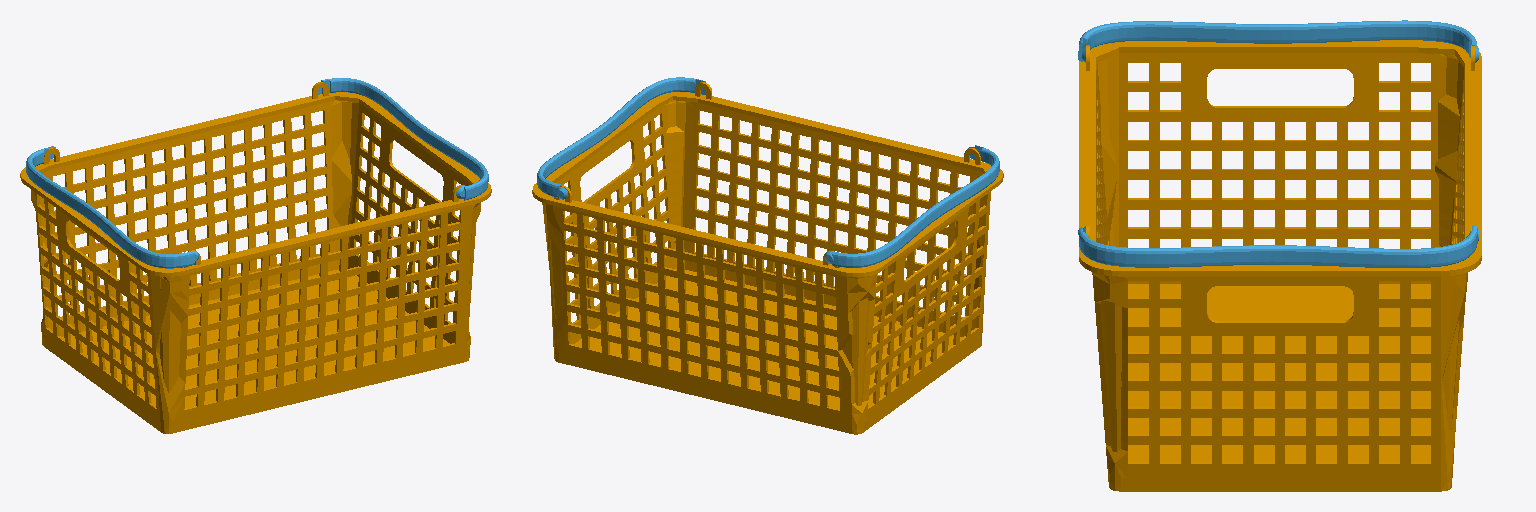
URDF robot description (seria_basket):
<?xml version="1.0"?>
<robot name="seria_basket">

  <link name="seria_basket_body">
    <visual>
      <origin xyz="0.0 0.0 0.0"/>
      <geometry>
        <mesh filename="../../meshes/objects/seria_basket_body.obj" scale="0.001 0.001 0.001"/>
      </geometry>
    </visual>
    <collision concave="yes">
      <origin xyz="0.0 0.0 0.0"/>
      <geometry>
        <mesh filename="../../meshes/objects/seria_basket_body_collision.obj" scale="0.001 0.001 0.001"/>
      </geometry>
    </collision>
  </link>
  <link name="seria_basket_handle">
    <visual>
      <origin xyz="0.0 0.0 0.0"/>
      <geometry>
        <mesh filename="../../meshes/objects/seria_basket_handle.obj" scale="0.001 0.001 0.001"/>
      </geometry>
    </visual>
    <!-- <collision>
      <origin xyz="0.0 0.0 0.0"/>
      <geometry>
        <mesh filename="../../meshes/objects/seria_basket_handle.obj" scale="0.001 0.001 0.001"/>
      </geometry>
    </collision> -->
  </link>
  <joint name="j1"  type="fixed">
    <parent link="seria_basket_body"/>
    <child link="seria_basket_handle"/>
  </joint>
</robot>

--- Render facts (derived) ---
3 views of the same robot in one strip: view 1: azimuth 30°, elevation 25°; view 2: azimuth 150°, elevation 25°; view 3: azimuth 270°, elevation 25° (orthographic).
Model seria_basket with 2 links and 1 joints (1 fixed), rooted at seria_basket_body, posed all joints at 0.
Visible links, largest first — view 1: seria_basket_body, seria_basket_handle; view 2: seria_basket_body, seria_basket_handle; view 3: seria_basket_body, seria_basket_handle.
Link boxes in pixels (bbox=[...]): seria_basket_body: bbox=[20, 82, 491, 433]; seria_basket_handle: bbox=[26, 78, 488, 268]; seria_basket_body: bbox=[532, 82, 1003, 434]; seria_basket_handle: bbox=[537, 77, 999, 267]; seria_basket_body: bbox=[1079, 40, 1481, 491]; seria_basket_handle: bbox=[1078, 20, 1478, 267].
Bounding box of the posed robot: 0.2616 × 0.1931 × 0.135 m (x, y, z).
Meshes: 2 distinct files referenced, 2 mesh visuals loaded (2 OBJ).